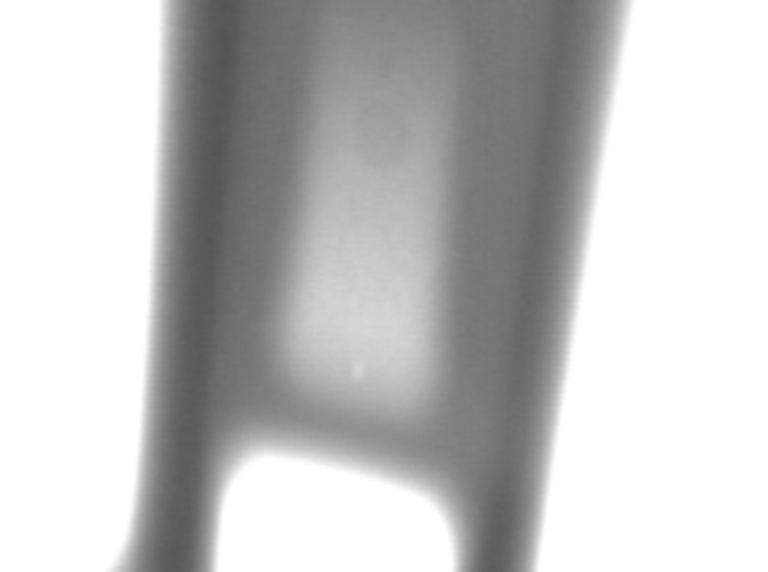defect: (352, 364, 369, 390)
